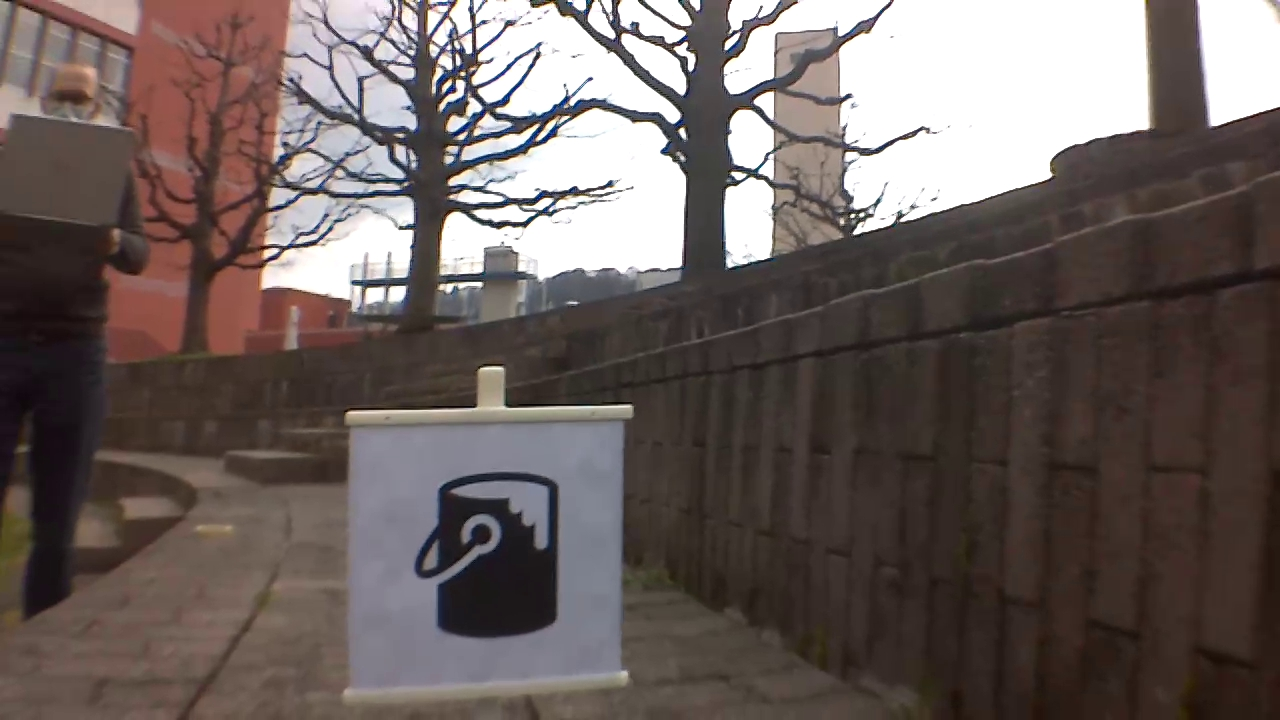bucket: (413, 472, 568, 641)
